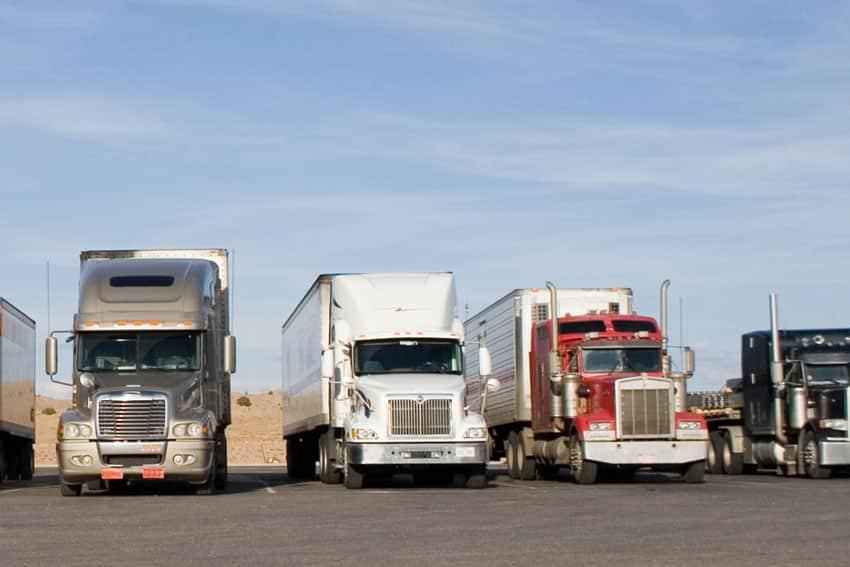truck: (461, 280, 710, 486), (44, 247, 236, 497), (280, 271, 499, 490), (689, 293, 850, 479)
